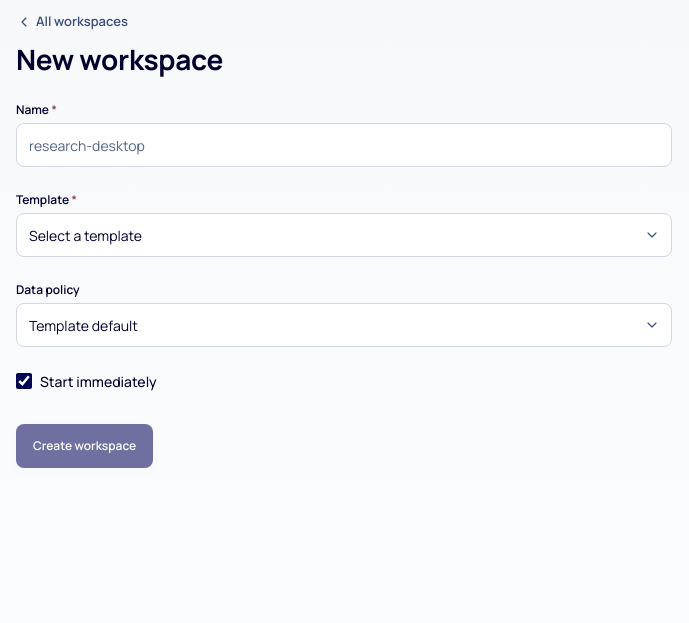
Test: CreateWorkspacePage › create: ephemeral warning appears before submit
Type "my-box" into the field labelled "Name *" at (344, 145), box [16,123,672,167]
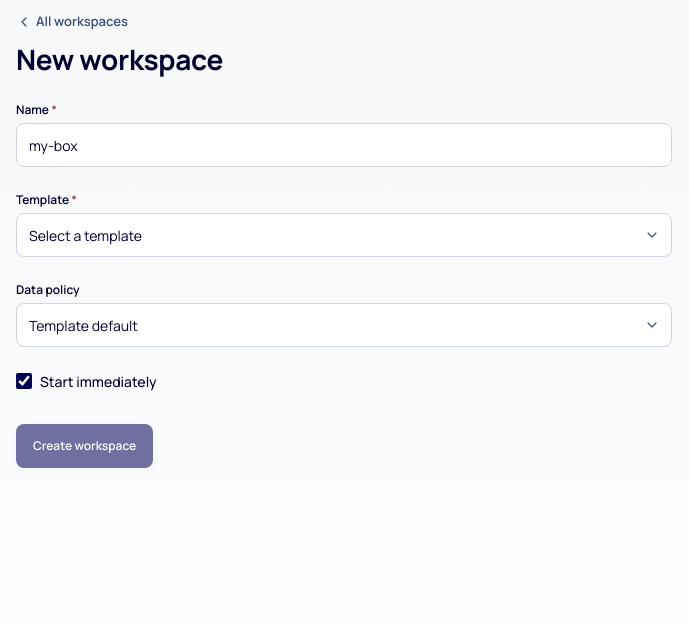
Select "linux-chromium-browser (rev 3, Linux container)" in the dropdown labelled "Template *" at (344, 235), box [16,213,672,257]
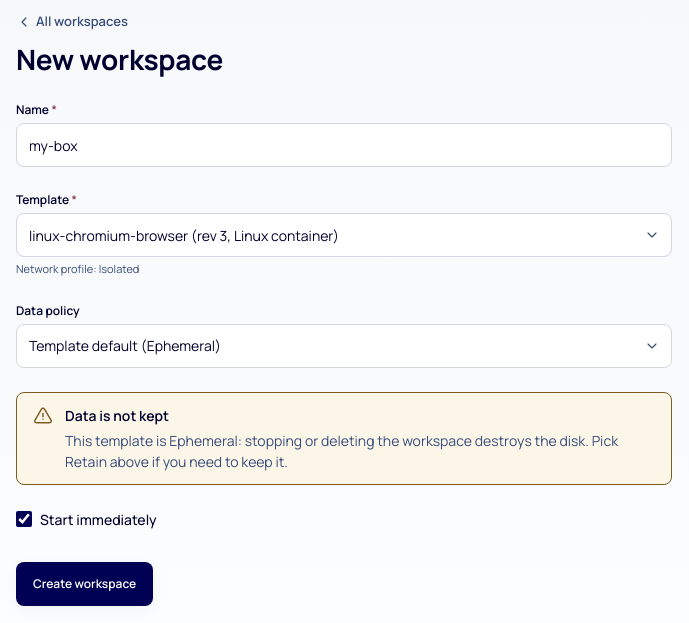
Expected: the text "Data is not kept" is shown, [65,406,169,424]
Expected: the text "destroys the disk" is shown, [65,430,618,470]
